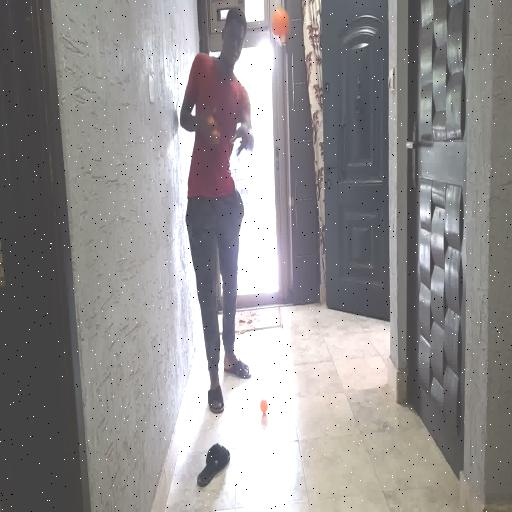plastic-ball: (271, 8, 290, 40)
